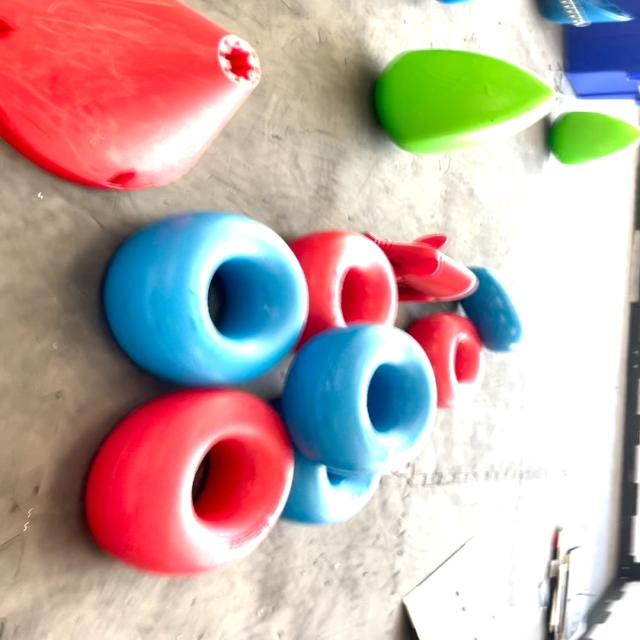Blue-Ring: (104, 211, 309, 386), (282, 325, 436, 474), (282, 450, 380, 525), (460, 266, 522, 352)
Red-Ring: (87, 388, 293, 576), (289, 230, 398, 349), (407, 312, 484, 409)
